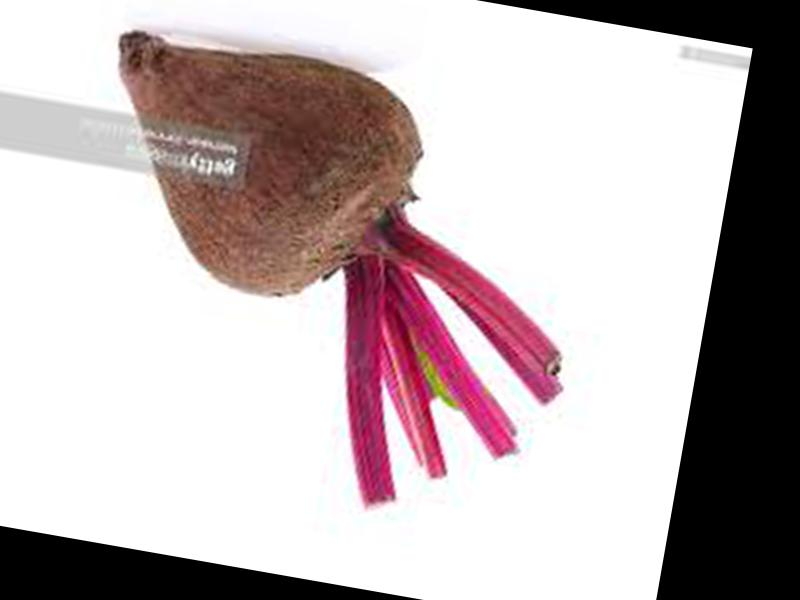Beet: (47, 27, 610, 535)
